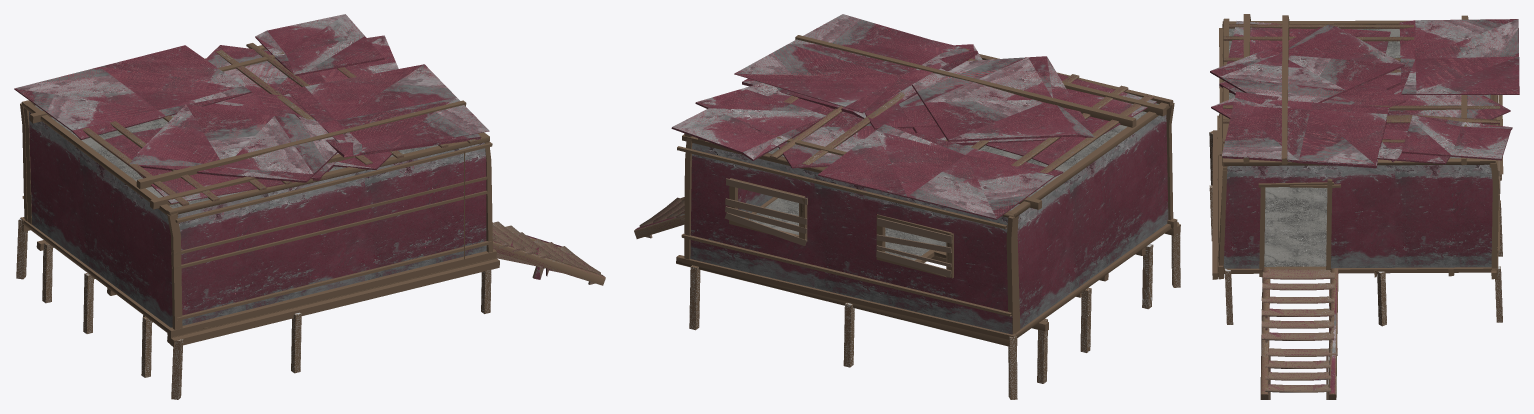
Rendered from Swamp_house 1.fbx.
The picture shows the model from 3 angles, left to right: view 1: azimuth 30°, elevation 25°; view 2: azimuth 150°, elevation 25°; view 3: azimuth 270°, elevation 25°; orthographic projection. The views are drawn at different scales.
Visible parts, largest first — view 1: Group1; view 2: Group1; view 3: Group1.
Boxes of the visible parts, x1,y1,x2,y2 form: Group1: (14, 14, 605, 399); Group1: (634, 14, 1180, 399); Group1: (1209, 14, 1519, 399).
Size of the model in its own units: 715 by 306 by 458.
